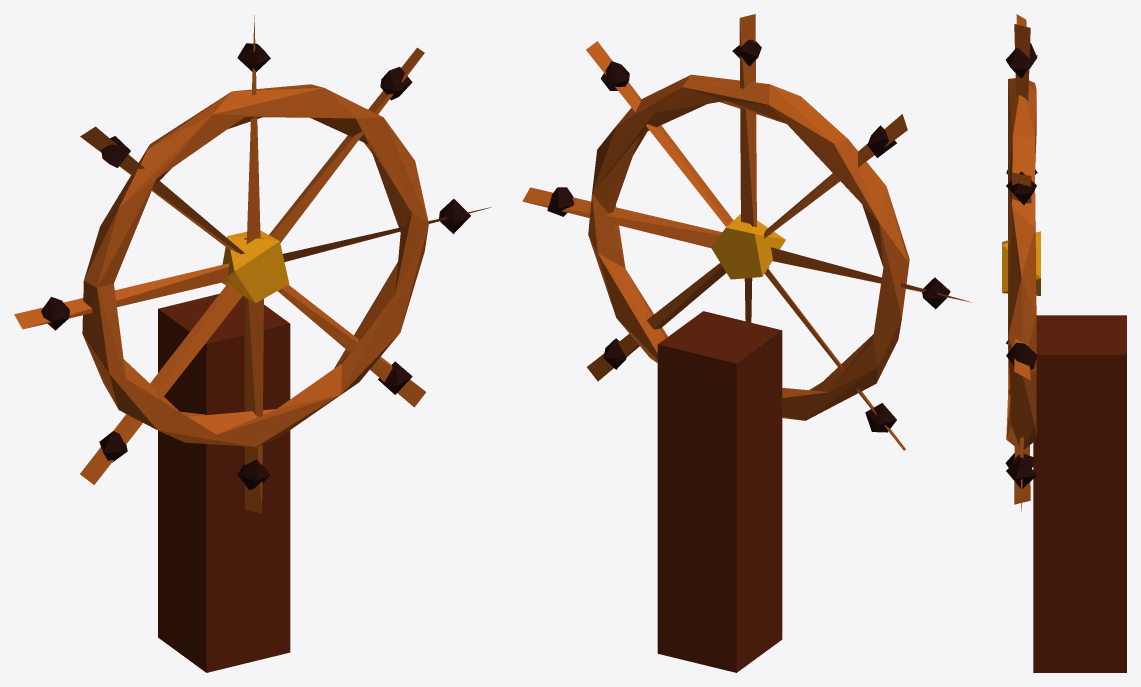
The model's file is upgrade_ship_s_wheel_ash_rudder.three-web-toon.lod25.glb.
The picture shows the model from 3 angles, left to right: view 1: azimuth 30°, elevation 25°; view 2: azimuth 150°, elevation 25°; view 3: azimuth 270°, elevation 25°; orthographic projection. The views are drawn at different scales.
Parts seen in each view (by area): view 1: upgrade_ship_s_wheel_ash_rudder_mesh_lod; view 2: upgrade_ship_s_wheel_ash_rudder_mesh_lod; view 3: upgrade_ship_s_wheel_ash_rudder_mesh_lod.
Boxes of the visible parts, left/top/right/bottom form: upgrade_ship_s_wheel_ash_rudder_mesh_lod: left=14, top=15, right=491, bottom=672; upgrade_ship_s_wheel_ash_rudder_mesh_lod: left=522, top=14, right=971, bottom=672; upgrade_ship_s_wheel_ash_rudder_mesh_lod: left=1002, top=14, right=1126, bottom=672.
Size of the model in its own units: 1.35 by 1.78 by 0.32.
